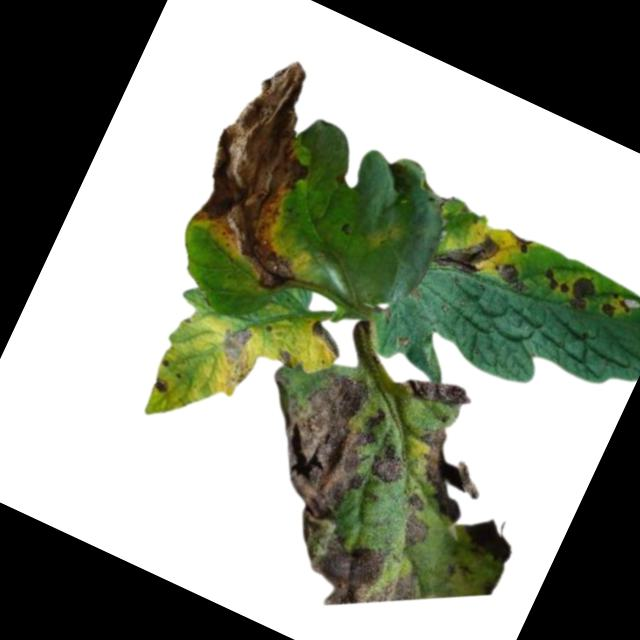Early_blight: (168, 43, 377, 298), (230, 342, 402, 522), (273, 508, 427, 636), (397, 420, 502, 526), (433, 218, 504, 287), (205, 315, 270, 387), (400, 364, 476, 421), (461, 505, 528, 564), (366, 432, 415, 487), (396, 507, 447, 557), (303, 318, 350, 359), (565, 270, 604, 314), (600, 286, 640, 326), (497, 258, 535, 294), (541, 265, 577, 297), (501, 227, 536, 256), (274, 346, 298, 370), (151, 373, 174, 396)
